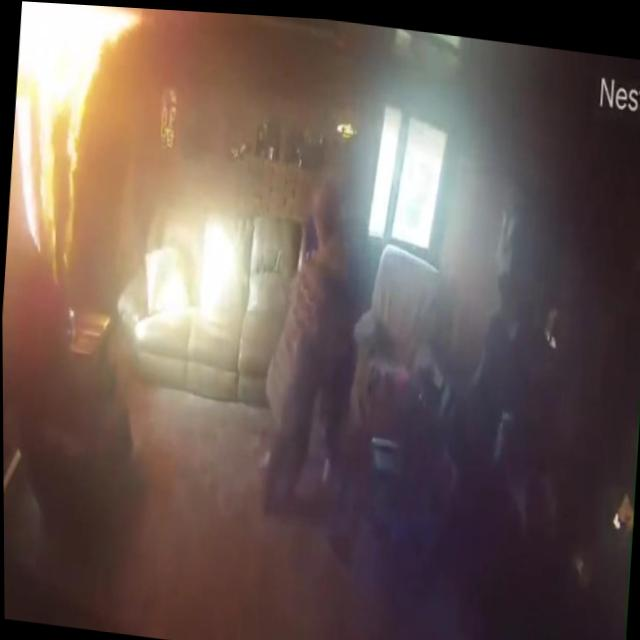fire: (3, 0, 145, 276)
